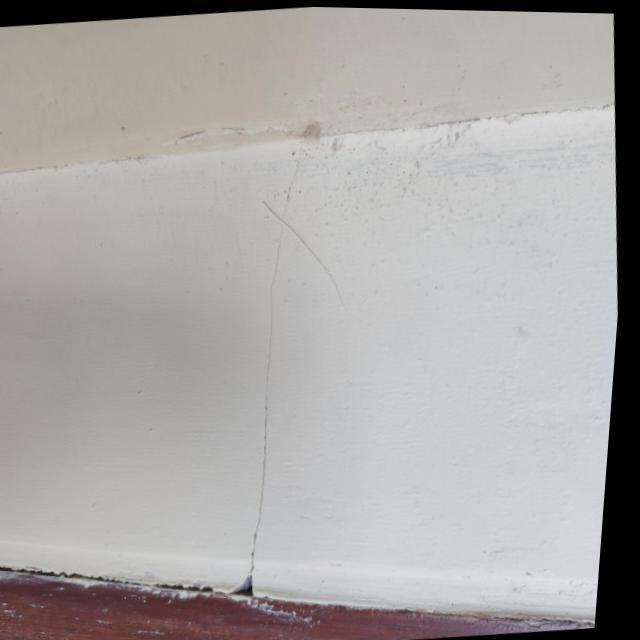Crack: (245, 180, 287, 574)
